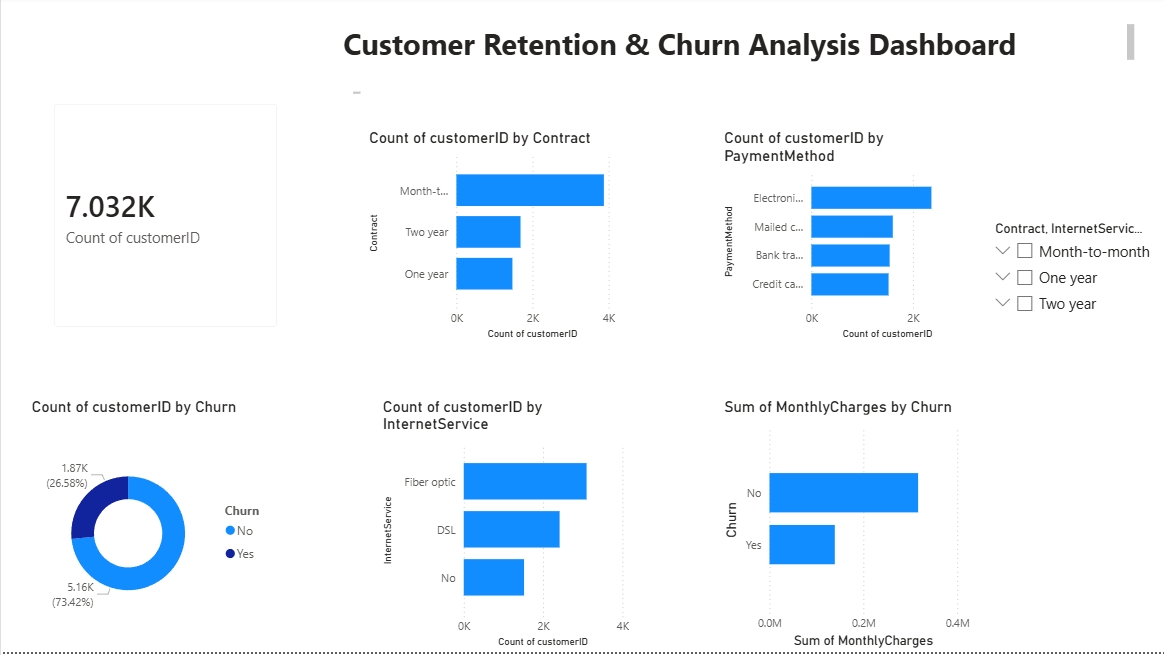

Layout of this report page (visuals, bound fields, positions):
{"tool":"powerbi","page":{"name":"Page 1","canvas":[1280,720],"ordinal":0},"visuals":[{"type":"cardVisual","fields":{"Data":["Count(WA_Fn-UseC_-Telco-Customer-Churn.customerID)"]},"box":[41.2,101.5,279.9,279.9],"z":0},{"type":"donutChart","fields":{"Category":["WA_Fn-UseC_-Telco-Customer-Churn.Churn"],"Y":["CountNonNull(WA_Fn-UseC_-Telco-Customer-Churn.customerID)"]},"box":[28.8,440.5,279.9,279.9],"z":1000},{"type":"clusteredBarChart","fields":{"Category":["WA_Fn-UseC_-Telco-Customer-Churn.Contract"],"Y":["Count(WA_Fn-UseC_-Telco-Customer-Churn.customerID)"]},"box":[399.3,145.5,279.9,236],"z":2000},{"type":"clusteredBarChart","fields":{"Category":["WA_Fn-UseC_-Telco-Customer-Churn.InternetService"],"Y":["Count(WA_Fn-UseC_-Telco-Customer-Churn.customerID)"]},"box":[414,440,280,280],"z":3000},{"type":"clusteredBarChart","fields":{"Category":["WA_Fn-UseC_-Telco-Customer-Churn.PaymentMethod"],"Y":["Count(WA_Fn-UseC_-Telco-Customer-Churn.customerID)"]},"box":[789,145.5,279.9,236],"z":4000},{"type":"clusteredBarChart","fields":{"Category":["WA_Fn-UseC_-Telco-Customer-Churn.Churn"],"Y":["Sum(WA_Fn-UseC_-Telco-Customer-Churn.MonthlyCharges)"]},"box":[789,440,280,280],"z":5000},{"type":"slicer","fields":{"Values":["WA_Fn-UseC_-Telco-Customer-Churn.Contract","WA_Fn-UseC_-Telco-Customer-Churn.InternetService","WA_Fn-UseC_-Telco-Customer-Churn.Churn"]},"box":[1078.6,241.5,201.7,236],"z":6000},{"type":"textbox","box":[1079,478,201,242],"z":7000},{"type":"textbox","box":[1079,92,201,150],"z":8000},{"type":"textbox","box":[278.6,100.2,120.8,12.3],"z":9000},{"type":"textbox","box":[370.5,26.1,878.2,50.8],"z":9001}]}

Visuals, with their boxes in screenshot pixels (x1, y1, x2, y2), scaled from the page's 1280x720 canvas onto the 1164x655 screenshot:
cardVisual - Count(WA_Fn-UseC_-Telco-Customer-Churn.customerID): <bbox>37, 92, 292, 347</bbox>
donutChart - WA_Fn-UseC_-Telco-Customer-Churn.Churn x CountNonNull(WA_Fn-UseC_-Telco-Customer-Churn.customerID): <bbox>26, 401, 281, 654</bbox>
clusteredBarChart - WA_Fn-UseC_-Telco-Customer-Churn.Contract x Count(WA_Fn-UseC_-Telco-Customer-Churn.customerID): <bbox>363, 132, 618, 347</bbox>
clusteredBarChart - WA_Fn-UseC_-Telco-Customer-Churn.InternetService x Count(WA_Fn-UseC_-Telco-Customer-Churn.customerID): <bbox>376, 400, 631, 654</bbox>
clusteredBarChart - WA_Fn-UseC_-Telco-Customer-Churn.PaymentMethod x Count(WA_Fn-UseC_-Telco-Customer-Churn.customerID): <bbox>717, 132, 972, 347</bbox>
clusteredBarChart - WA_Fn-UseC_-Telco-Customer-Churn.Churn x Sum(WA_Fn-UseC_-Telco-Customer-Churn.MonthlyCharges): <bbox>717, 400, 972, 654</bbox>
slicer - WA_Fn-UseC_-Telco-Customer-Churn.Contract x WA_Fn-UseC_-Telco-Customer-Churn.InternetService: <bbox>981, 220, 1163, 434</bbox>
textbox: <bbox>981, 435, 1163, 654</bbox>
textbox: <bbox>981, 84, 1163, 220</bbox>
textbox: <bbox>253, 91, 363, 102</bbox>
textbox: <bbox>337, 24, 1136, 70</bbox>
